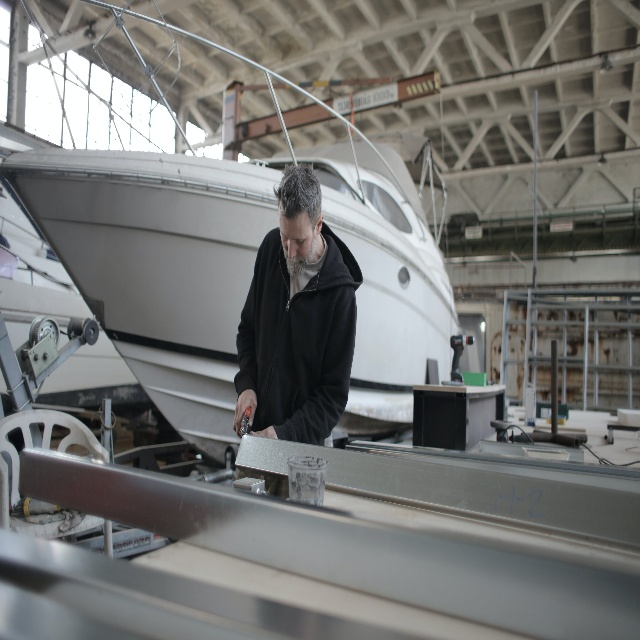Sin_guantes: (233, 388, 258, 438), (250, 425, 278, 440)
